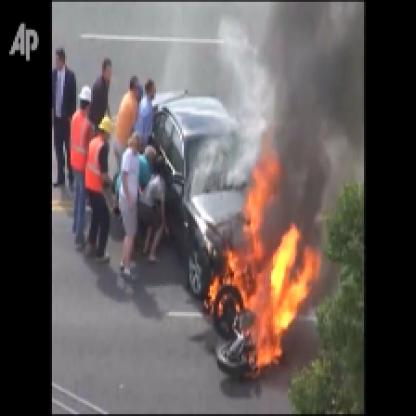Fire: (195, 134, 321, 371)
Smoke: (266, 2, 360, 221)
